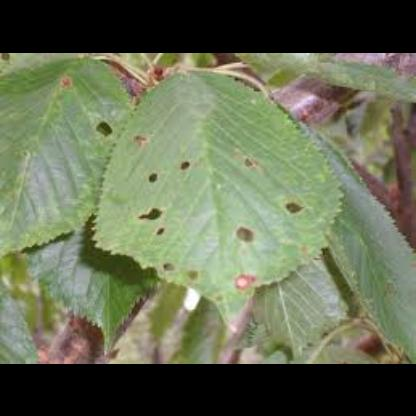agujero: (133, 202, 163, 218), (90, 120, 118, 136), (285, 194, 305, 216), (146, 169, 166, 189), (233, 224, 255, 240), (132, 128, 146, 152), (179, 158, 195, 172), (153, 222, 169, 236), (159, 259, 175, 273), (188, 268, 204, 282), (244, 154, 254, 168)
